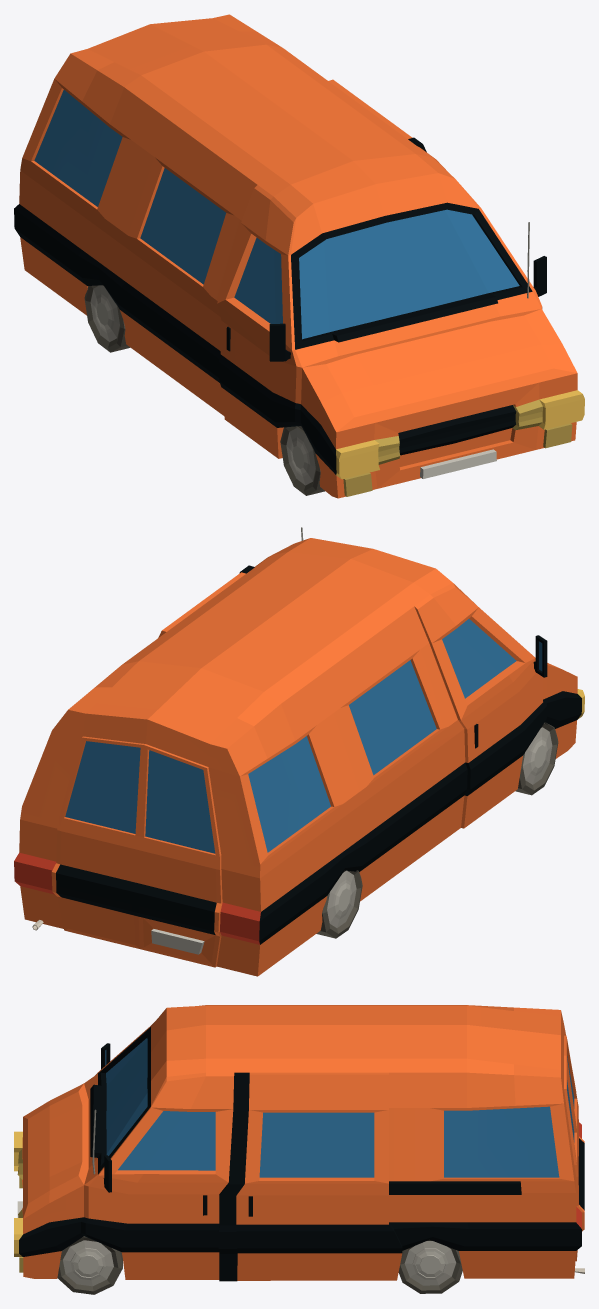
Rendered from Car_Van.fbx.
3 renders of one model, top to bottom at view 1: azimuth 30°, elevation 25°; view 2: azimuth 150°, elevation 25°; view 3: azimuth 270°, elevation 25°, orthographic. The views are drawn at different scales.
Visible parts, largest first — view 1: Van_a, Wheel_1.023, Wheel_1.022; view 2: Van_a, Wheel_1.022, Wheel_1.023; view 3: Van_a, Wheel_1.021, Wheel_1.020.
Part boxes in pixels (x1=…): Van_a: x1=14, y1=14, x2=584, y2=498; Wheel_1.023: x1=280, y1=426, x2=324, y2=495; Wheel_1.022: x1=84, y1=285, x2=130, y2=352; Van_a: x1=14, y1=527, x2=584, y2=976; Wheel_1.022: x1=316, y1=870, x2=362, y2=938; Wheel_1.023: x1=515, y1=722, x2=558, y2=795; Van_a: x1=14, y1=1005, x2=584, y2=1281; Wheel_1.021: x1=57, y1=1236, x2=122, y2=1294; Wheel_1.020: x1=398, y1=1239, x2=462, y2=1293.
Bounding box in the file's own units: 265 × 231 × 541.
